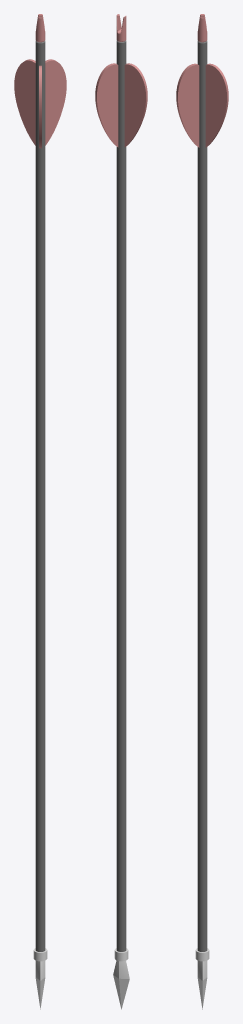
Rendered from 936_arrow.glb.
The picture shows the model from 3 angles, left to right: view 1: azimuth 90°, elevation 25°; view 2: azimuth 150°, elevation 25°; view 3: azimuth 270°, elevation 25°; orthographic projection.
Parts seen in each view (by area): view 1: Body; view 2: Body; view 3: Body.
Part boxes in pixels (<box>): Body: <box>14,14,66,1009</box>; Body: <box>95,14,147,1009</box>; Body: <box>176,14,228,1009</box>.
Size of the model in its own units: 0.0274 by 0.6598 by 0.0316.
